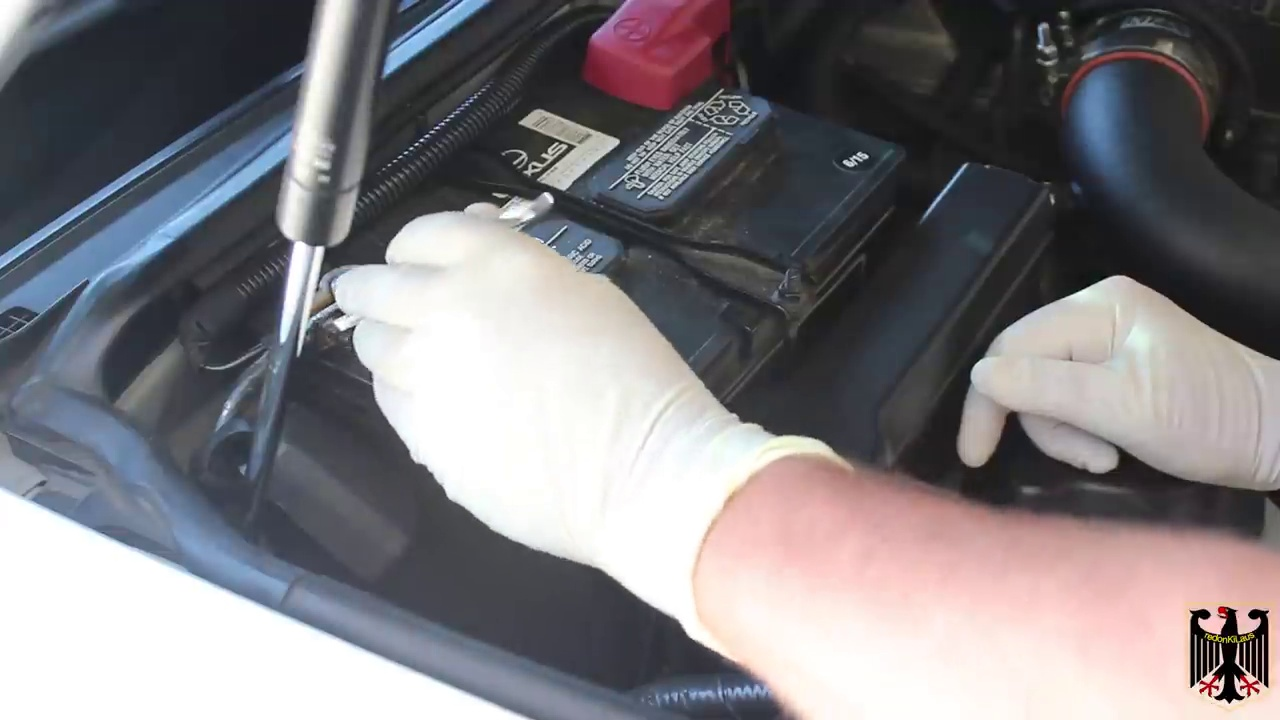battery: (281, 32, 906, 439)
pos_connected: (555, 2, 765, 130)
